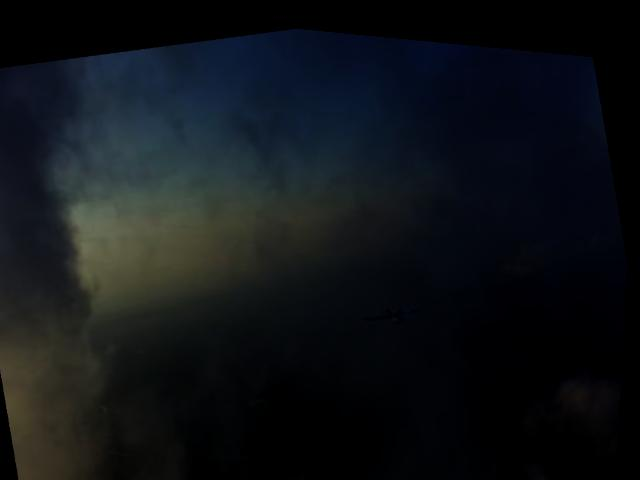uav: (361, 279, 431, 330)
